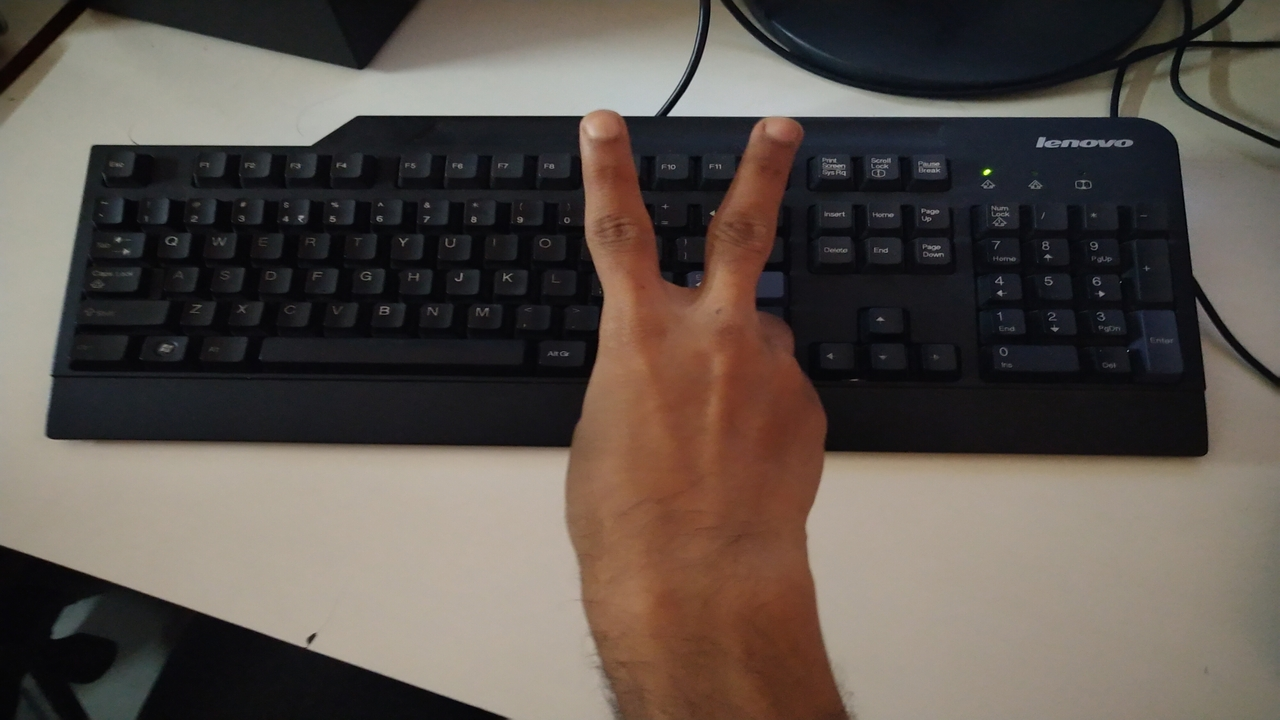fingertip: (748, 104, 812, 160), (572, 106, 634, 154)
